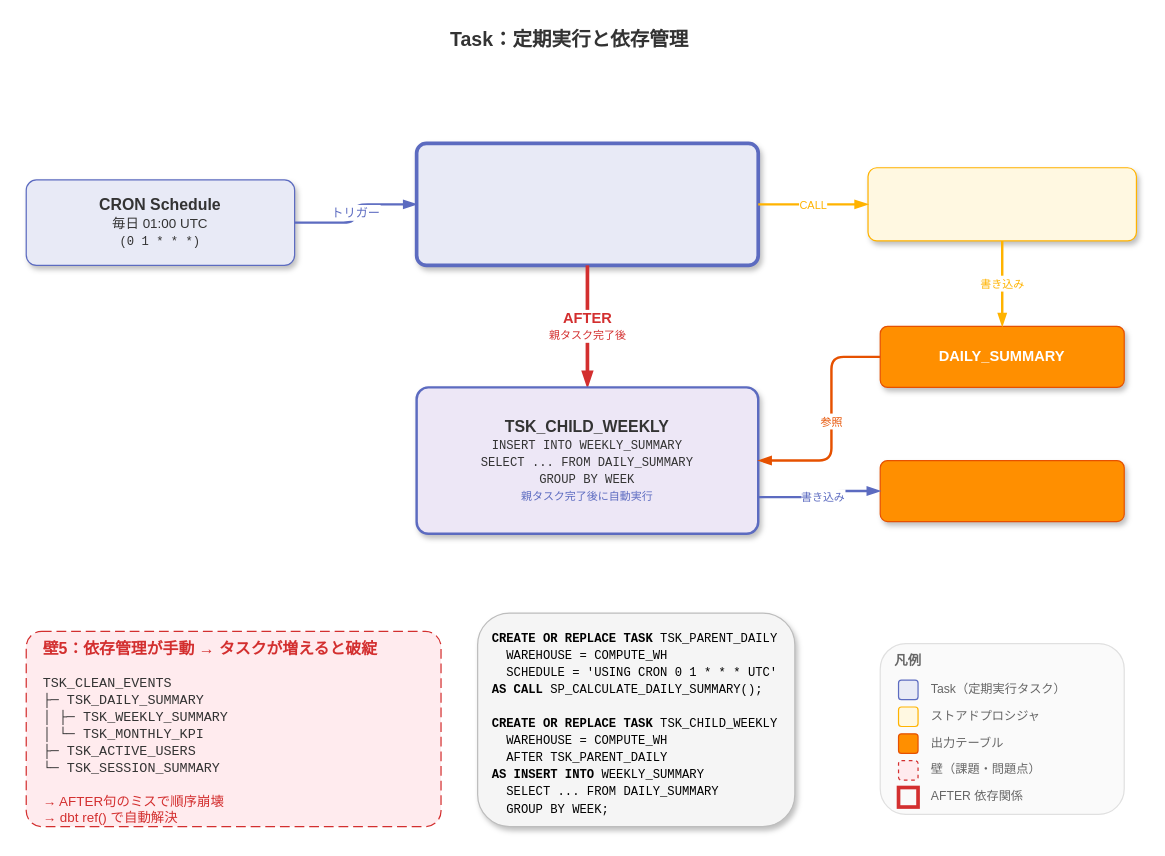
Some shapes in this 1165 by 856 pixel diagram are drawn without their labels. The shapes that lost their labels are listed below. From the top down, each one's centre as x and y in pixels, then its label:
At point 588,205: "TSK_PARENT_DAILY CALL SP_CALCULATE_DAILY_SUMMARY() WAREHOUSE = COMPUTE_WH".
At point 1003,205: "SP_CALCULATE_ DAILY_SUMMARY()".
At point 1003,492: "WEEKLY_SUMMARY".
